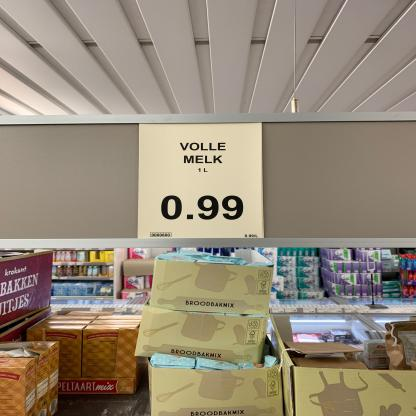prtg: (137, 124, 266, 239)
